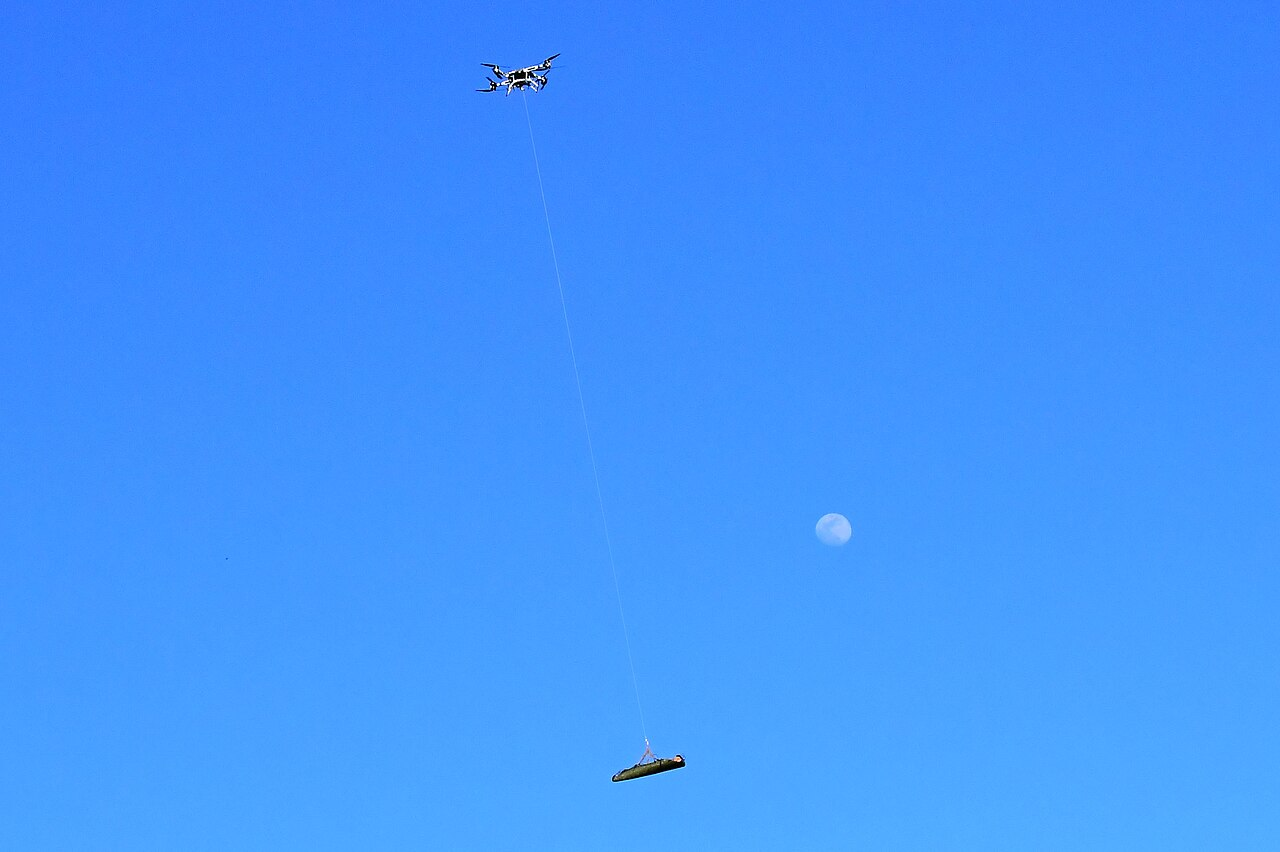drone: (474, 53, 562, 98)
